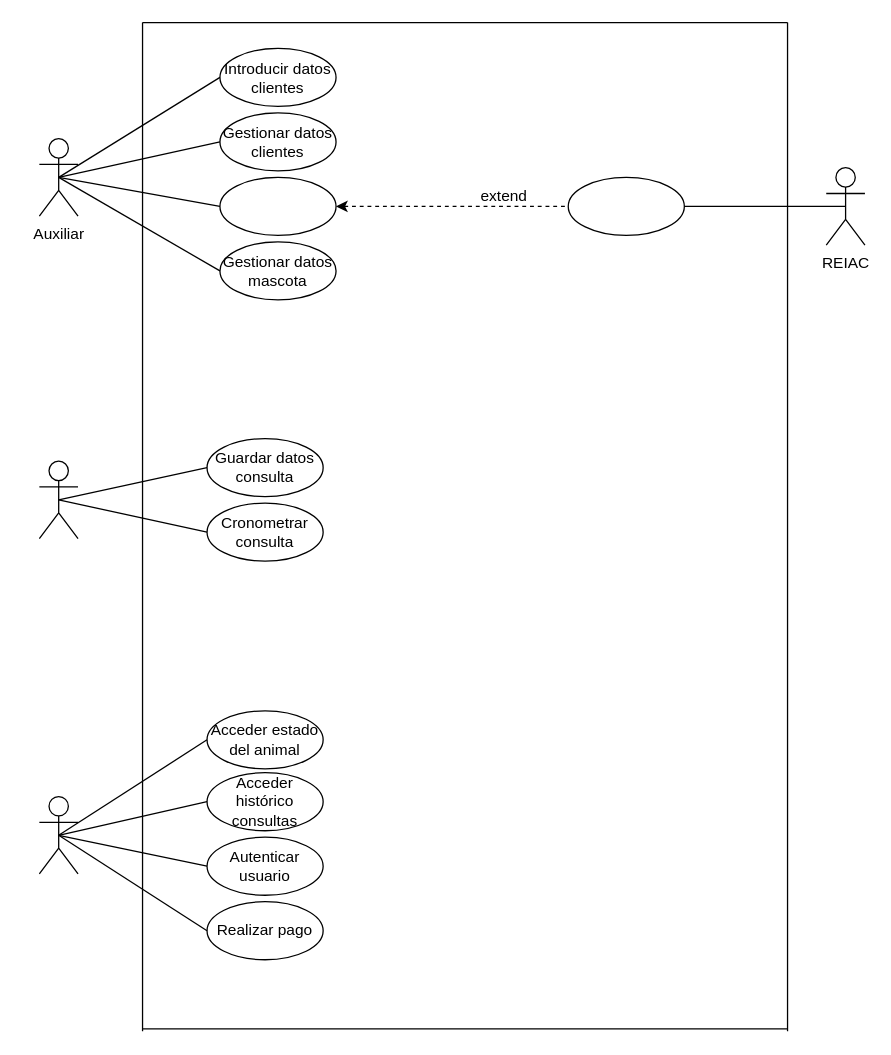
The diagram is 891 pixels wide and 1055 high, and some of its shapes have lost their labels. Each missing label, with the centre of its shape:
Cliente: point 58,834
Comprobar alta: point 625,205
Dar de alta mascota: point 277,205
Veterinario: point 58,499
